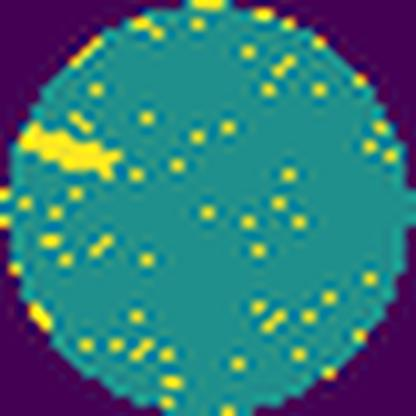Loc: (19, 127, 124, 180)
